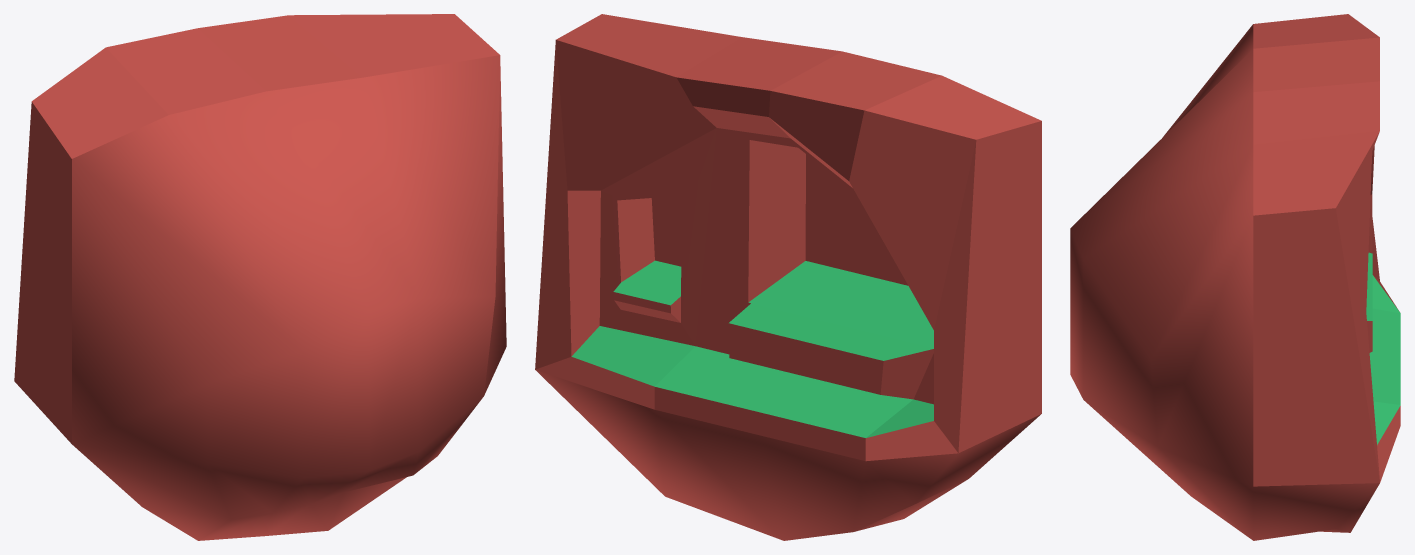
The model's file is lacune.fbx_HousesMed.fbx.
The picture shows the model from 3 angles, left to right: view 1: azimuth 30°, elevation 25°; view 2: azimuth 150°, elevation 25°; view 3: azimuth 270°, elevation 25°; orthographic projection. The views are drawn at different scales.
Parts seen in each view (by area): view 1: HousesMed; view 2: HousesMed; view 3: HousesMed.
Boxes of the visible parts, left/top/right/bottom form: HousesMed: left=14, top=14, right=506, bottom=540; HousesMed: left=535, top=14, right=1041, bottom=540; HousesMed: left=1070, top=14, right=1400, bottom=540.
Size of what is drawn, in the model's own units: 525 by 537 by 378.
